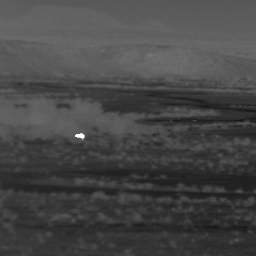Target: (73, 133, 85, 141)
